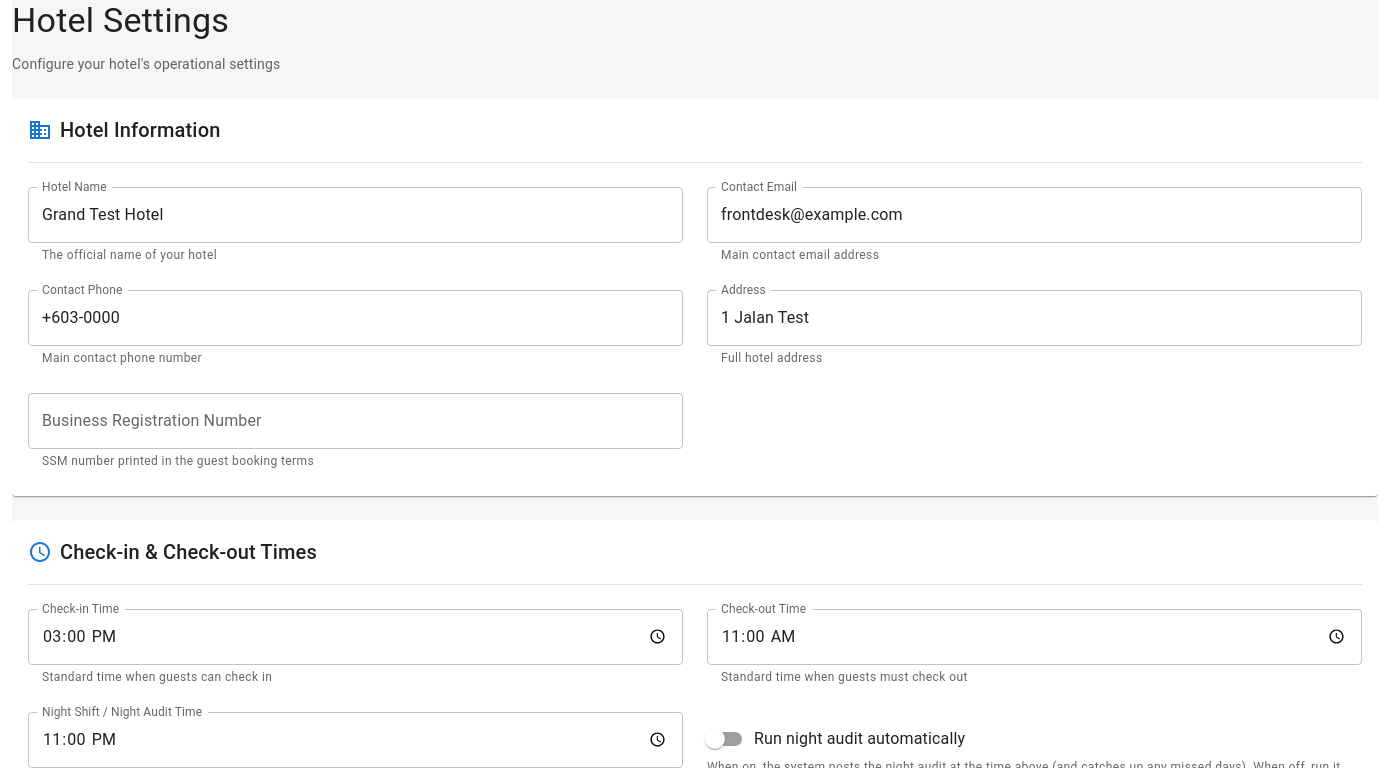
SettingsPage › saves an edited hotel name through the mutation payload
Check: the heading "Hotel Settings" is shown, box [12,0,229,40]
Replace the text in the field labelled "Hotel Name" with "Renamed Hotel" at {"x": 356, "y": 215}, box [28,187,683,243]
(page scrolled)
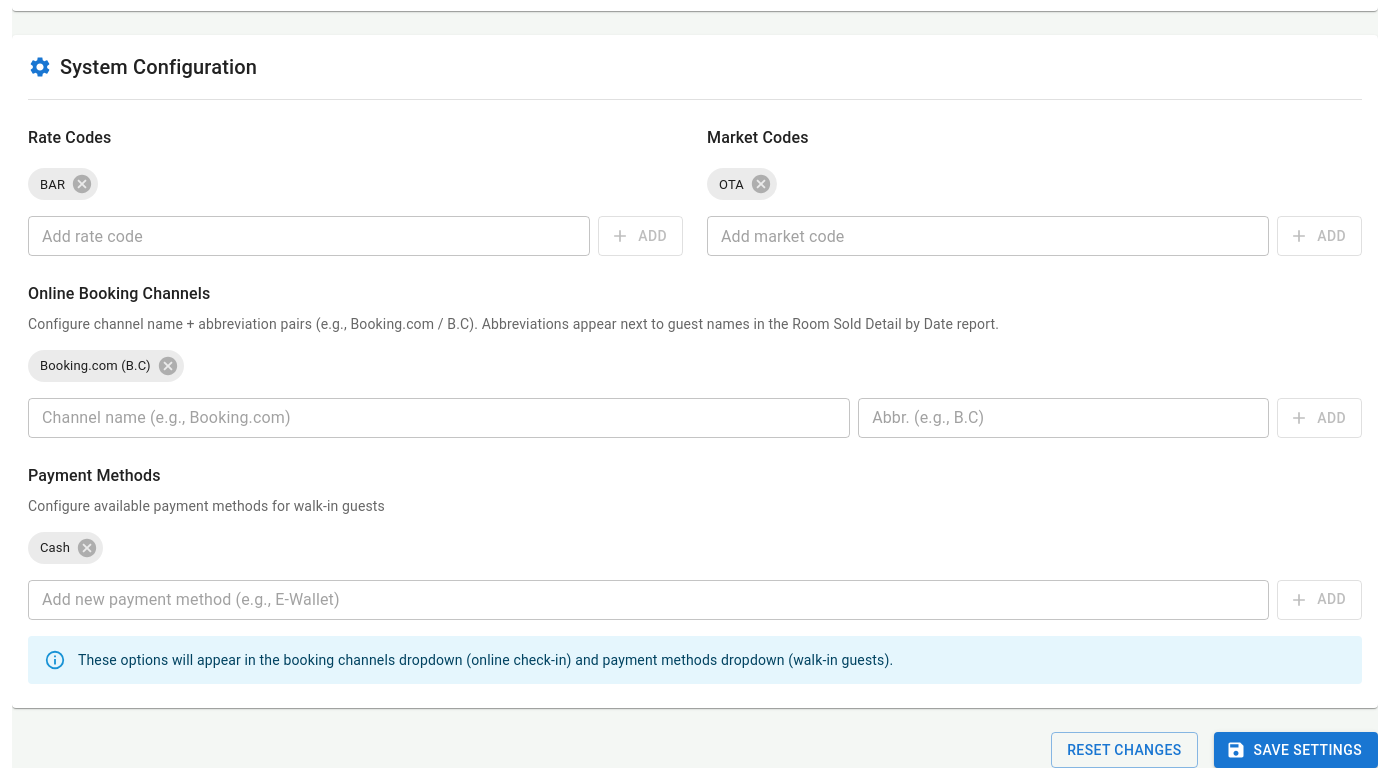
Click the button "Save Settings".
click(1296, 750)  # box [1214,732,1378,767]
(page scrolled)
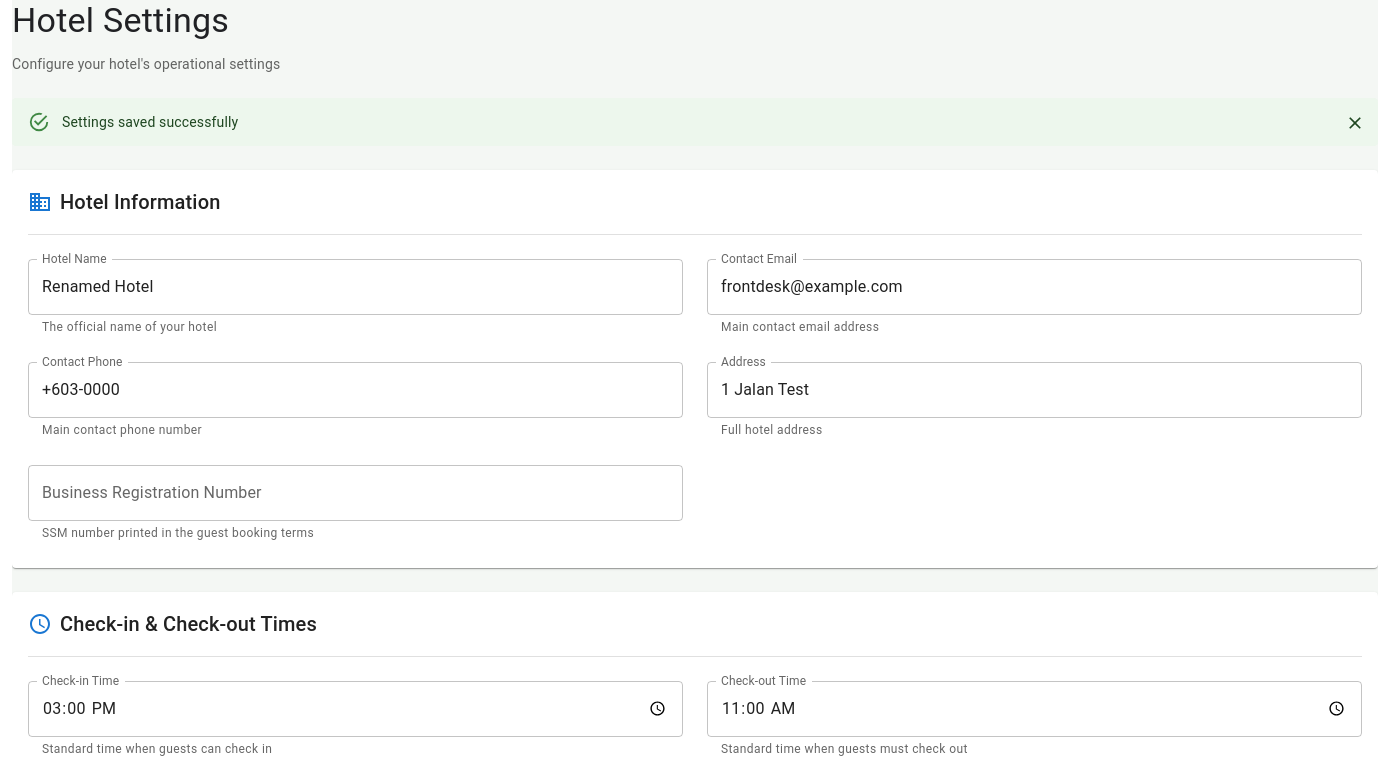
Check: the text "Settings saved successfully" is shown, box [62,114,238,130]
